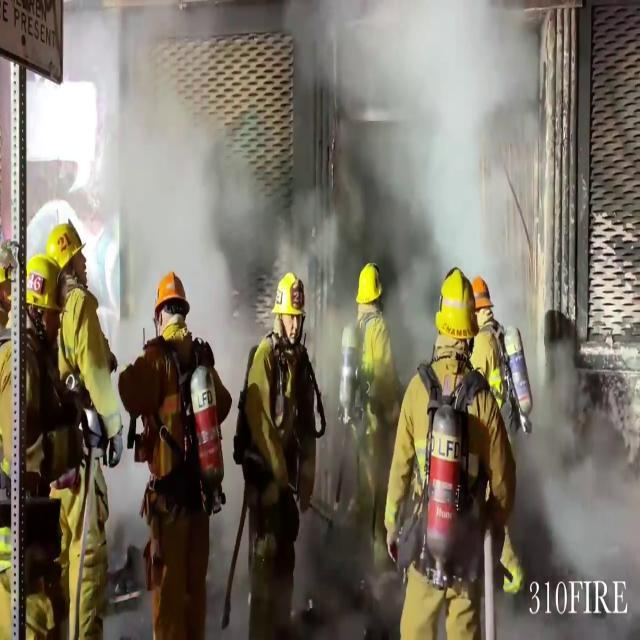Smoke: (286, 2, 564, 322), (81, 5, 247, 346), (522, 332, 640, 634)
